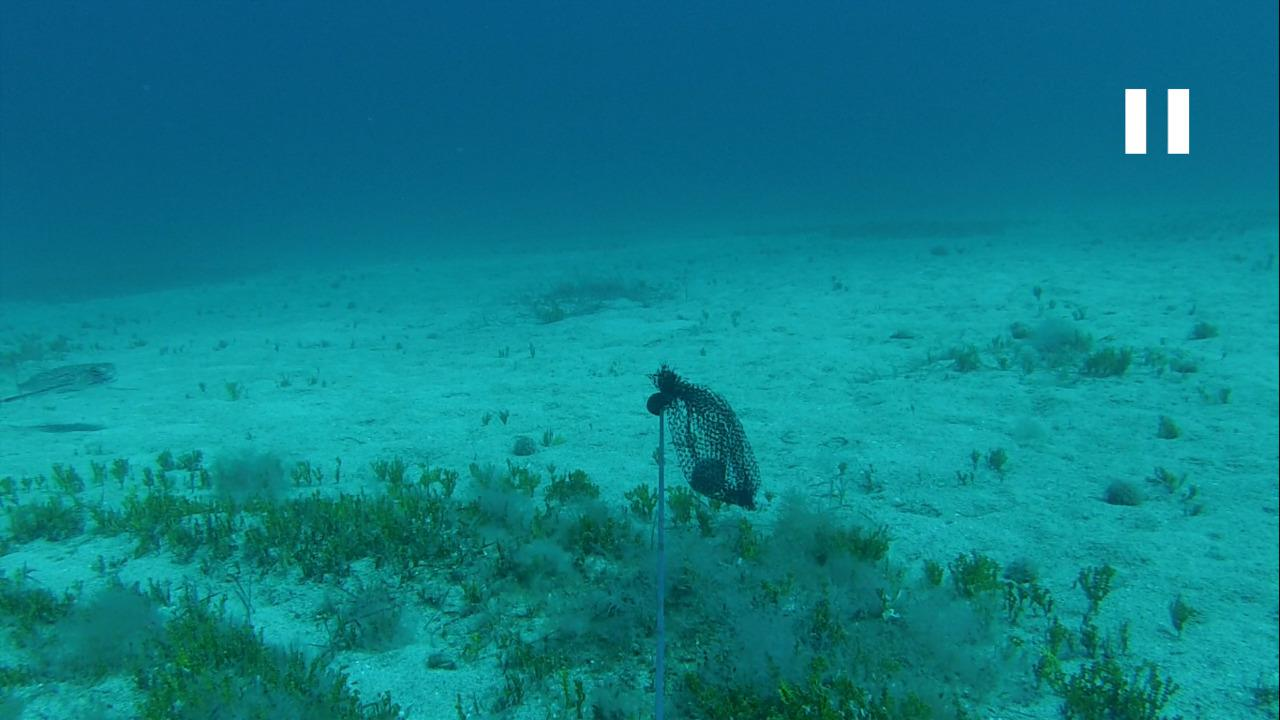dactylopterus: (4, 356, 123, 406)
